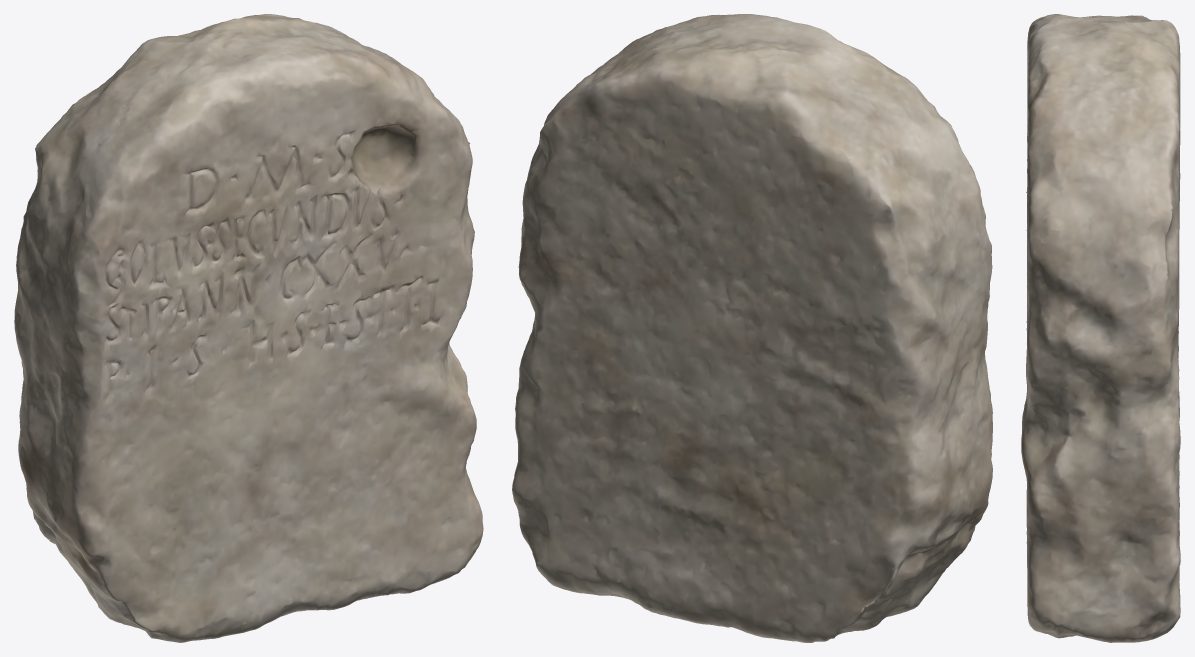
File: 08_INS_golvs.glb
The picture shows the model from 3 angles, left to right: view 1: azimuth 30°, elevation 25°; view 2: azimuth 150°, elevation 25°; view 3: azimuth 270°, elevation 25°; orthographic projection. The views are drawn at different scales.
Visible parts, largest first — view 1: GOLVS_LP; view 2: GOLVS_LP; view 3: GOLVS_LP.
Boxes of the visible parts, bbox=[...] form: GOLVS_LP: bbox=[14, 14, 483, 642]; GOLVS_LP: bbox=[512, 14, 992, 642]; GOLVS_LP: bbox=[1021, 14, 1180, 642].
Bounding box in the file's own units: 0.3547 × 0.4697 × 0.1285.
1 material, 1 textured.
